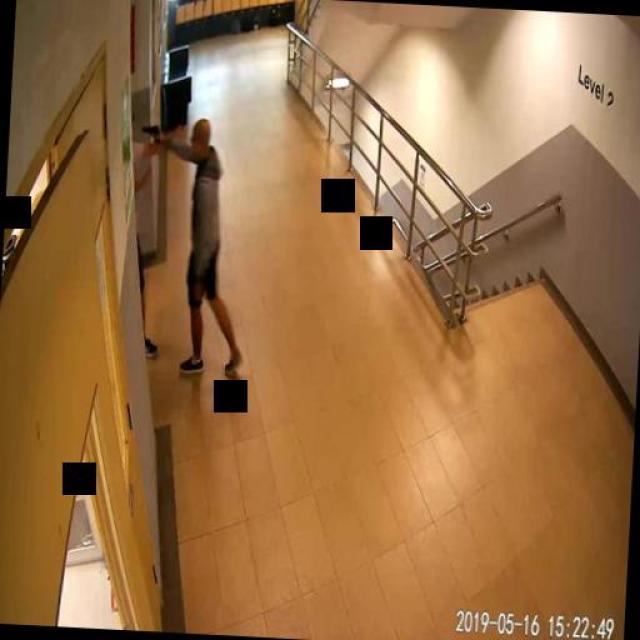gun: (139, 121, 160, 142)
